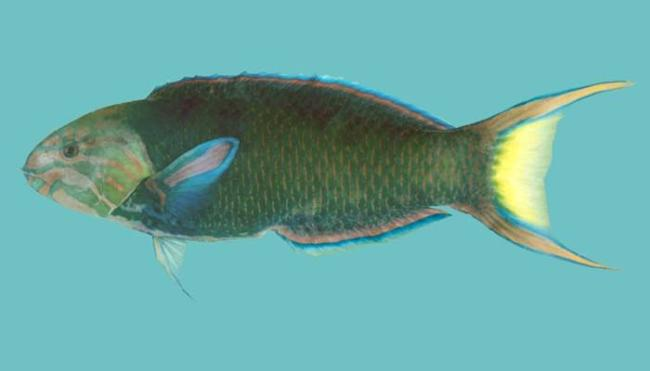fish: (20, 71, 639, 305)
